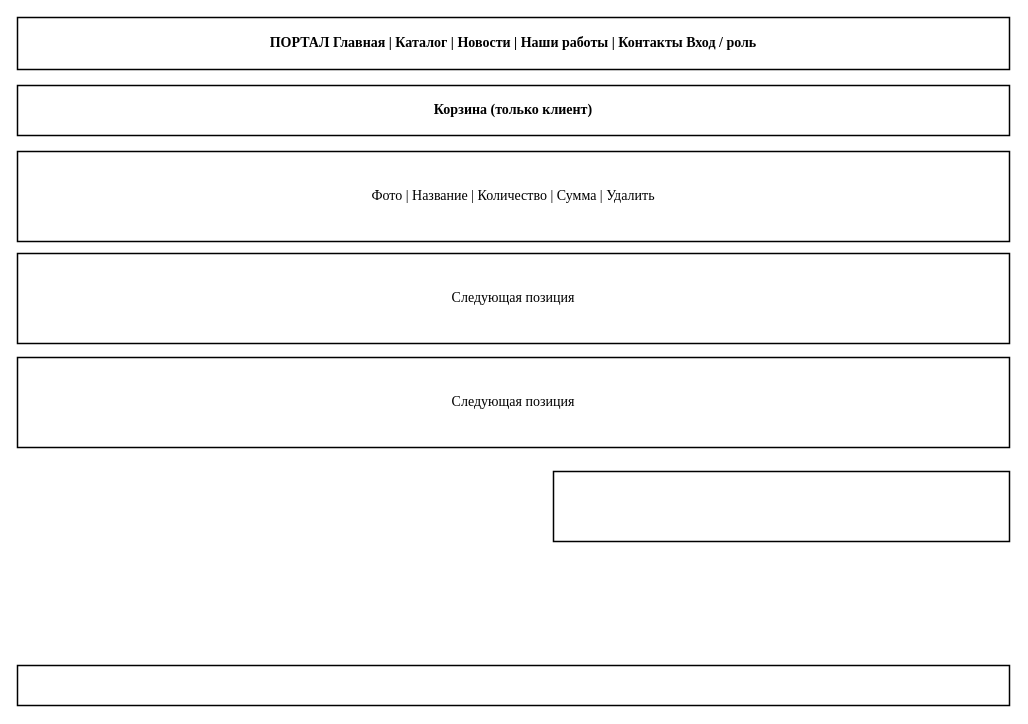
Image size: 1028x724. Some labels were removed from this diagram. The centre of each missing label's shape, as x and y in pixels:
"Итого и кнопка «Оформить заказ»" belongs at [781,506].
"ООО «Портал» · Псков, ул. Металлистов, 12 · телефоны · разработчик" belongs at [513,685].
